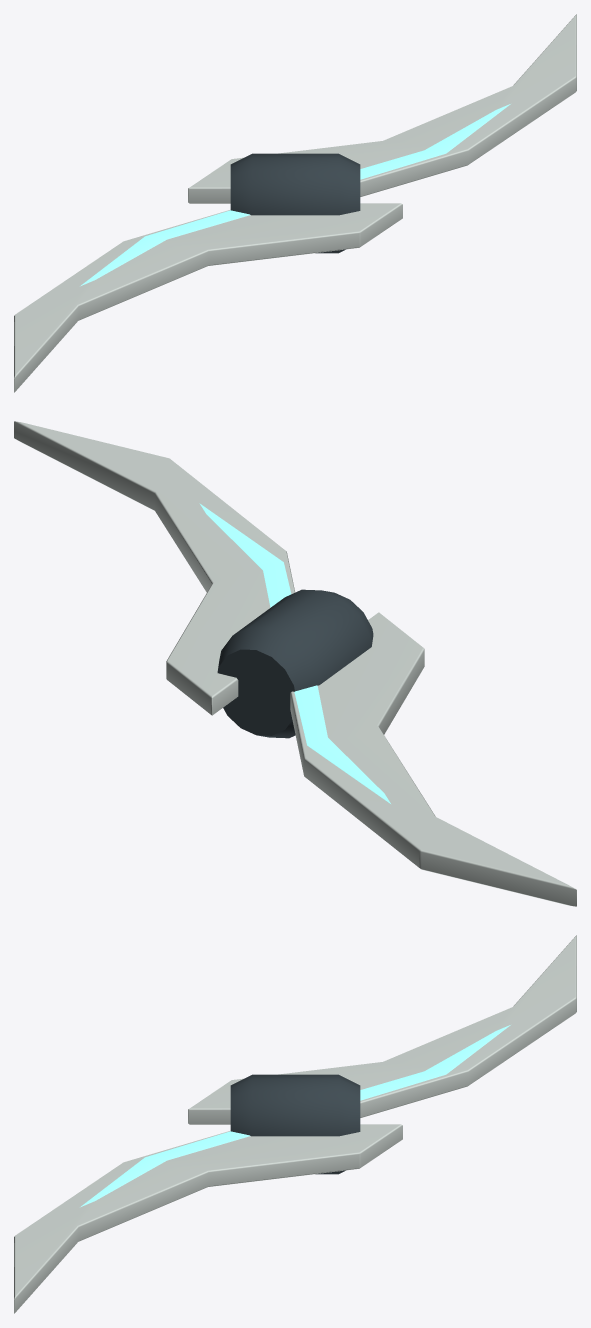
File: blade.glb
3 views of the same model, one above another, from view 1: azimuth 90°, elevation 25°; view 2: azimuth 150°, elevation 25°; view 3: azimuth 270°, elevation 25° (orthographic). The views are drawn at different scales.
Parts seen in each view (by area): view 1: blade / Ivory ceramic, blade / Carbon ceramic, blade / Blade ion seam; view 2: blade / Ivory ceramic, blade / Carbon ceramic, blade / Blade ion seam; view 3: blade / Ivory ceramic, blade / Carbon ceramic, blade / Blade ion seam.
Part boxes in pixels (bbox=[...]): blade / Ivory ceramic: bbox=[14, 14, 576, 392]; blade / Carbon ceramic: bbox=[230, 153, 360, 253]; blade / Blade ion seam: bbox=[80, 104, 510, 286]; blade / Ivory ceramic: bbox=[14, 421, 576, 906]; blade / Carbon ceramic: bbox=[217, 589, 373, 738]; blade / Blade ion seam: bbox=[199, 503, 390, 803]; blade / Ivory ceramic: bbox=[14, 935, 576, 1313]; blade / Carbon ceramic: bbox=[230, 1074, 360, 1174]; blade / Blade ion seam: bbox=[80, 1025, 510, 1207].
Size of the model in its own units: 39.86 by 4.6 by 26.
